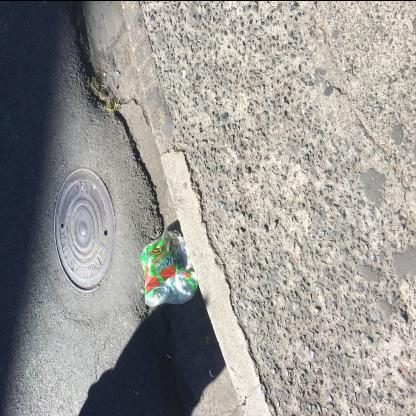plastik: (140, 228, 198, 306)
